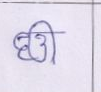i_matra: (36, 20, 61, 64)
